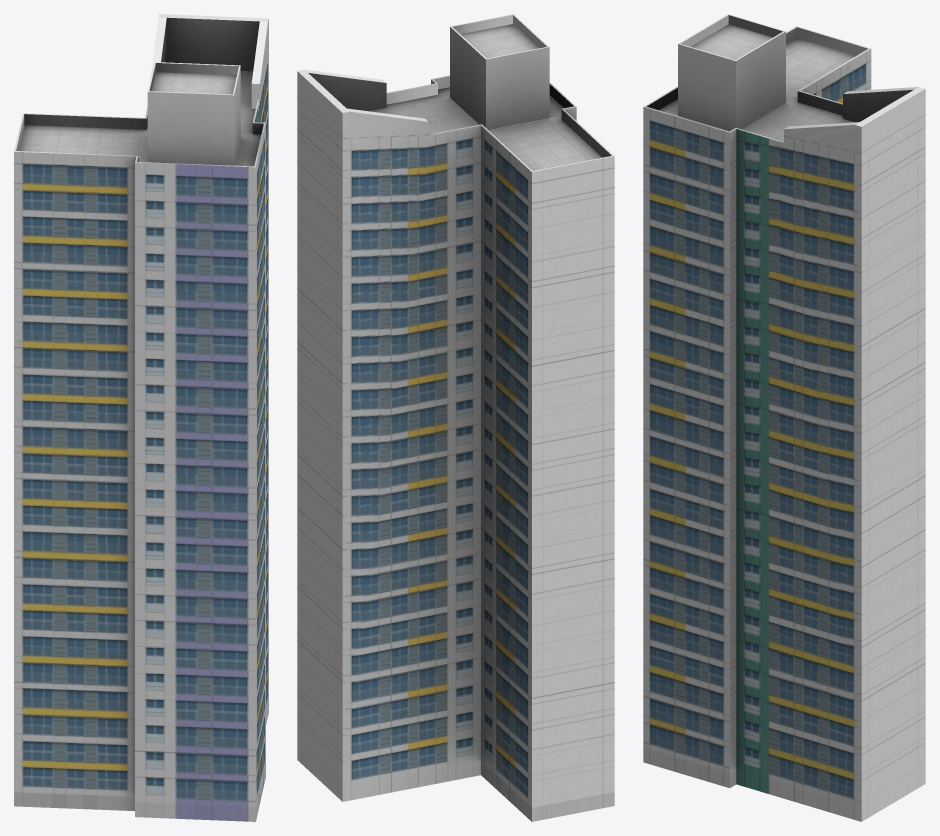
The picture shows the model from 3 angles, left to right: view 1: azimuth 30°, elevation 25°; view 2: azimuth 150°, elevation 25°; view 3: azimuth 270°, elevation 25°; orthographic projection.
Parts seen in each view (by area): view 1: a_bd001; view 2: a_bd001; view 3: a_bd001.
Part boxes in pixels (x1=…): a_bd001: x1=14, y1=14, x2=268, y2=821; a_bd001: x1=297, y1=14, x2=614, y2=821; a_bd001: x1=643, y1=14, x2=925, y2=821.
Bounding box in the file's own units: 38 × 32.25 × 90.35.
